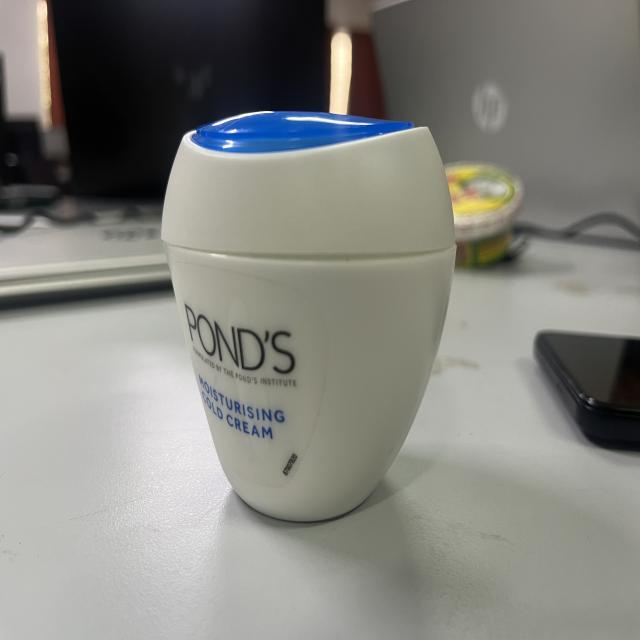L1: (144, 90, 458, 531)
